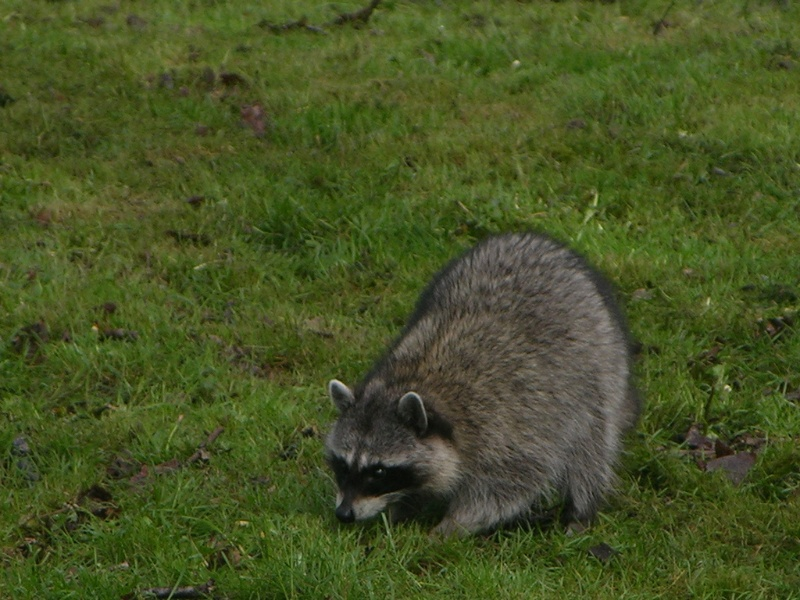raccoon: (324, 226, 644, 555)
